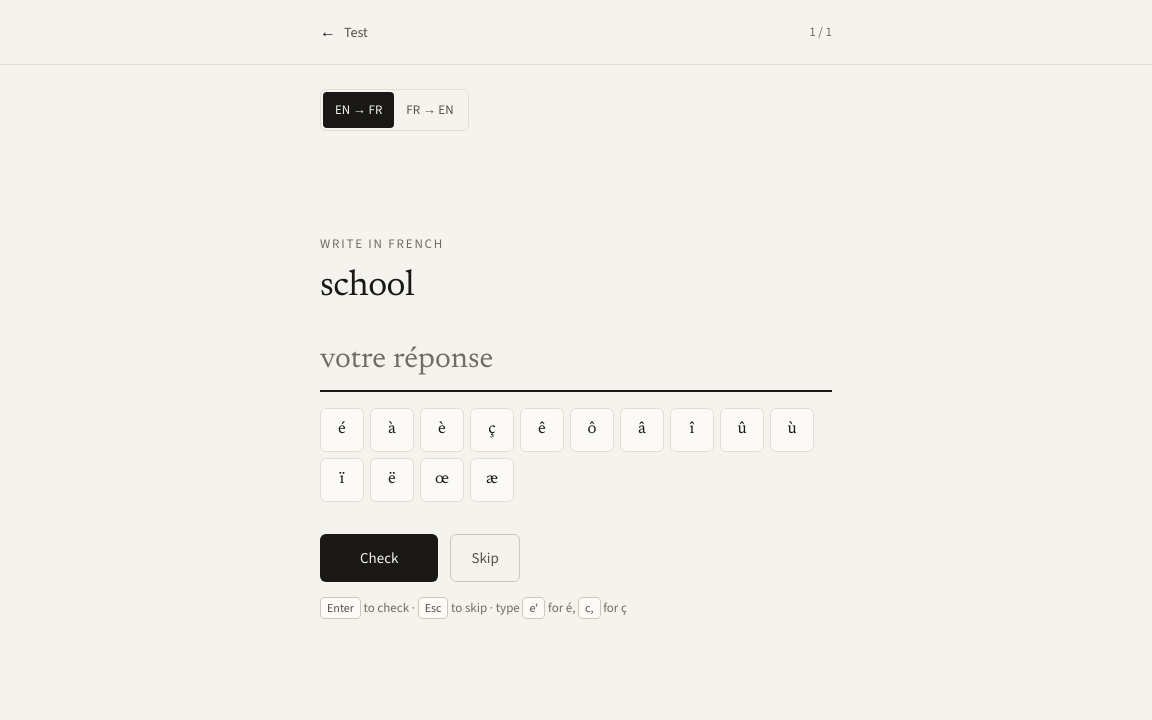
Quiz › rejects a missing accent and shows the expected spelling
Type "l'ecole" into the field named "your answer" at (576, 367), box [320,342,832,392]
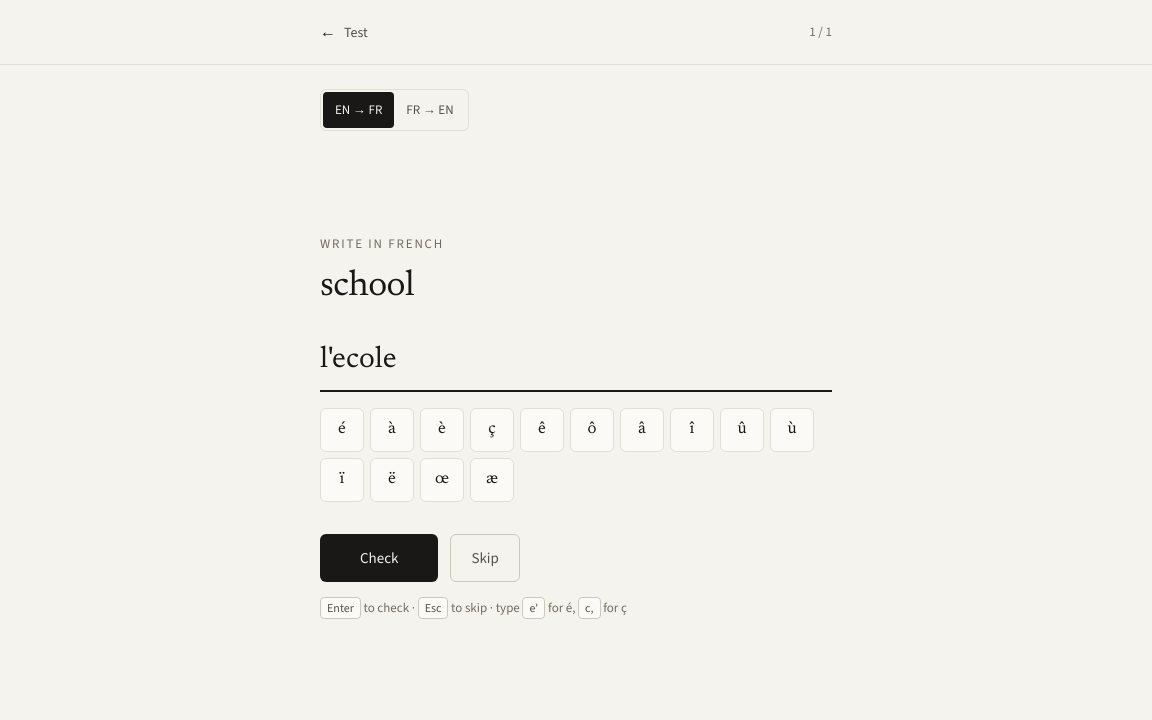
Click the button "Check" at (379, 558), box [320,534,438,582]
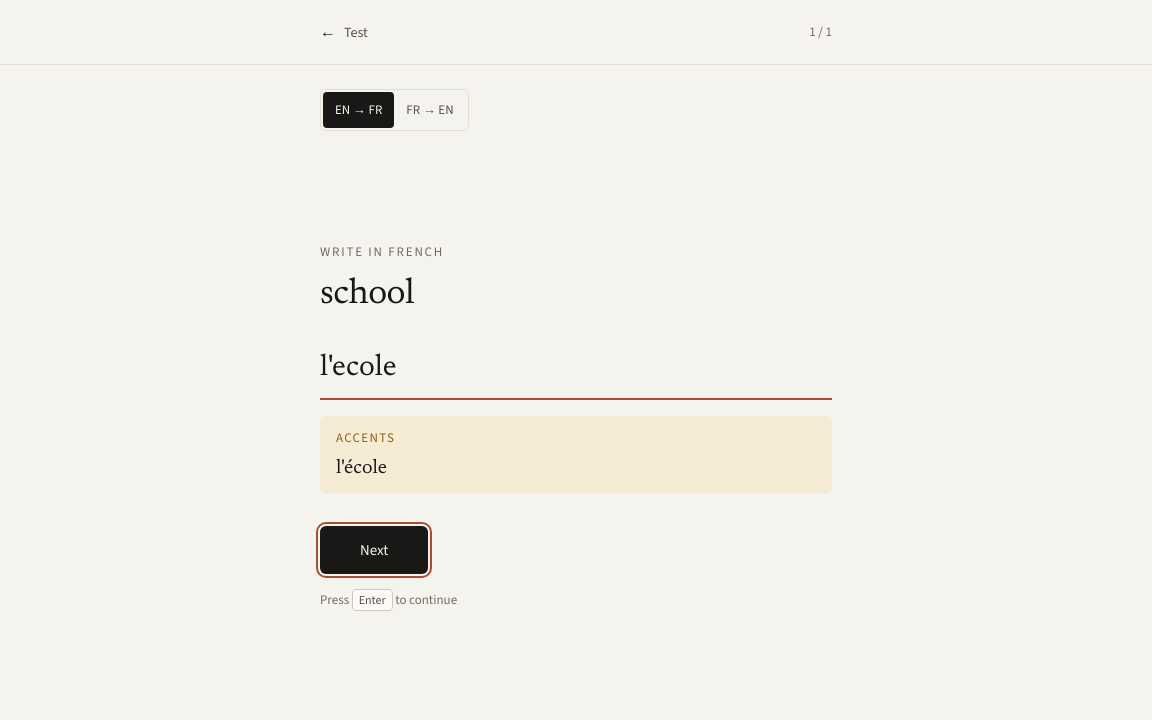
Result: the text "Accents" is shown at [336,429,395,446]
Result: the text "l'école" is shown at [336,458,387,478]
